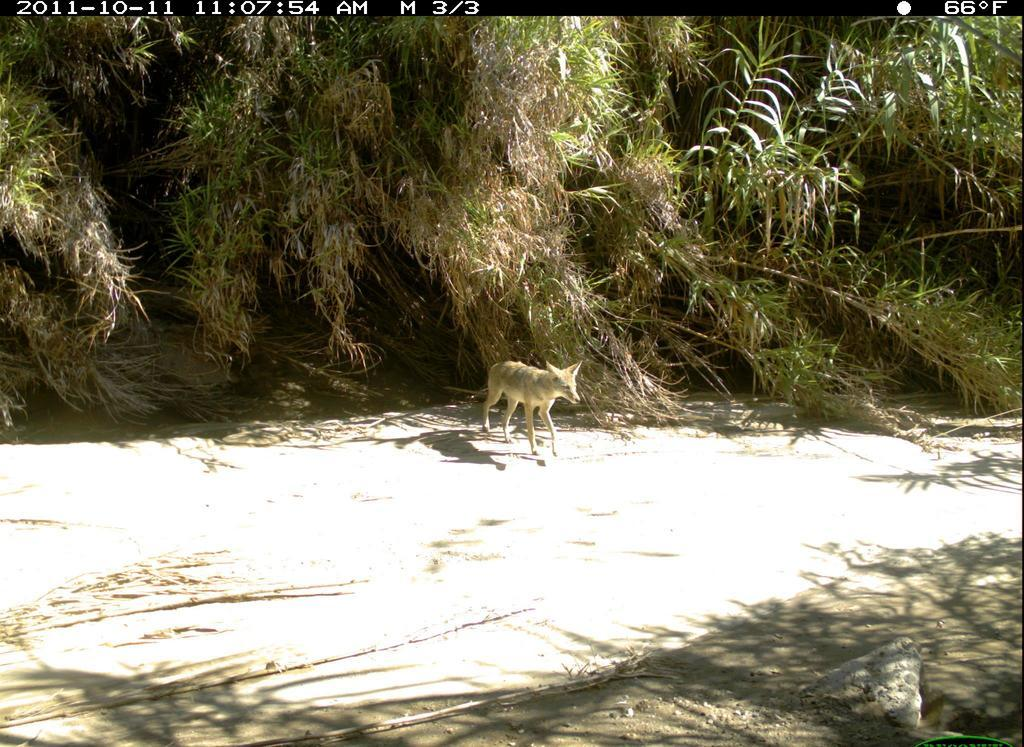coyote: (452, 354, 589, 470)
